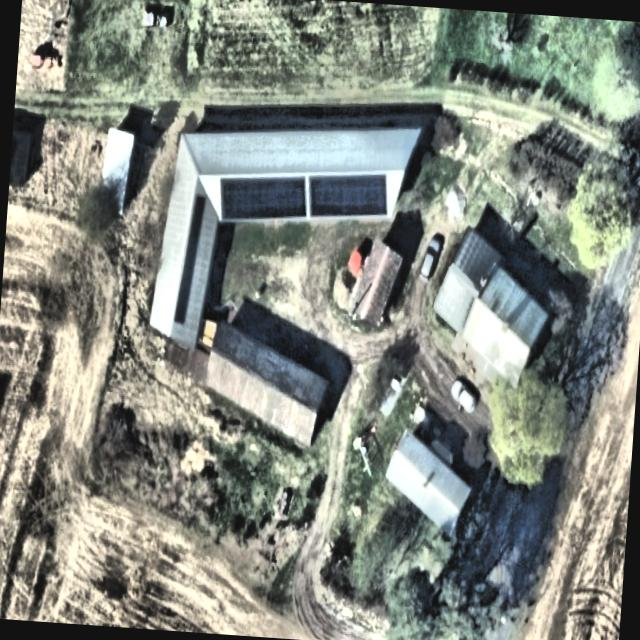roof_pv: (215, 163, 308, 229), (304, 166, 392, 222), (172, 249, 199, 328), (184, 190, 208, 252)
